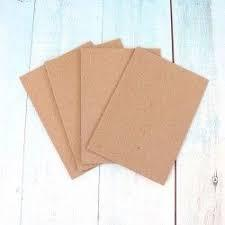plastic: (84, 43, 214, 187), (81, 47, 160, 168), (18, 65, 78, 181), (38, 42, 88, 166), (96, 39, 122, 47)
